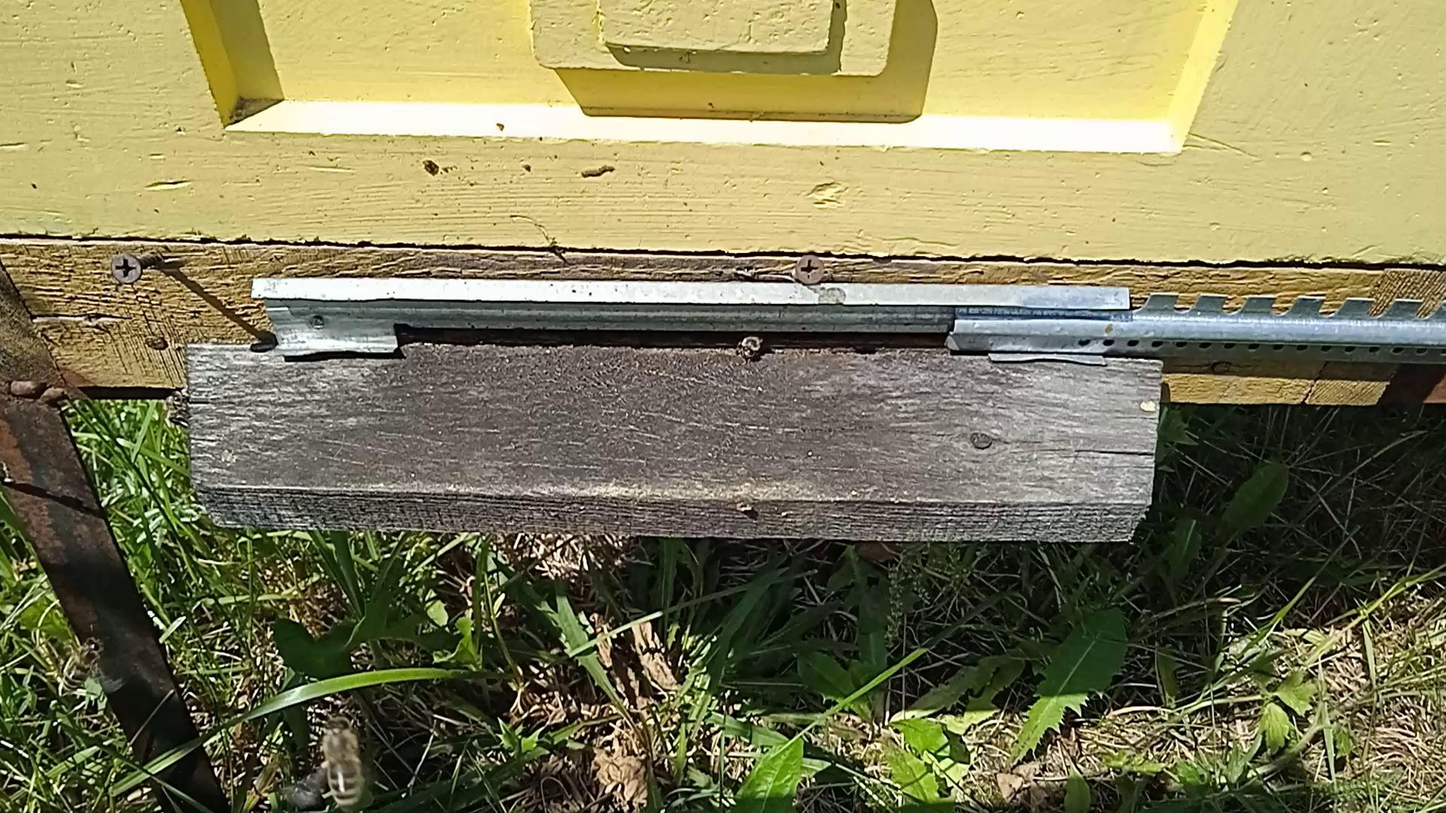worker-bee: (322, 716, 365, 810), (61, 636, 103, 694), (160, 389, 190, 430), (735, 331, 767, 360)
